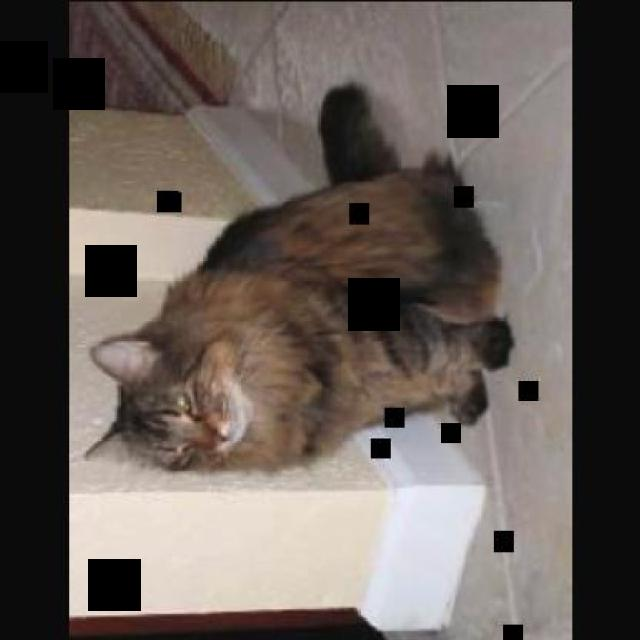unauthorized: (81, 83, 514, 474)
